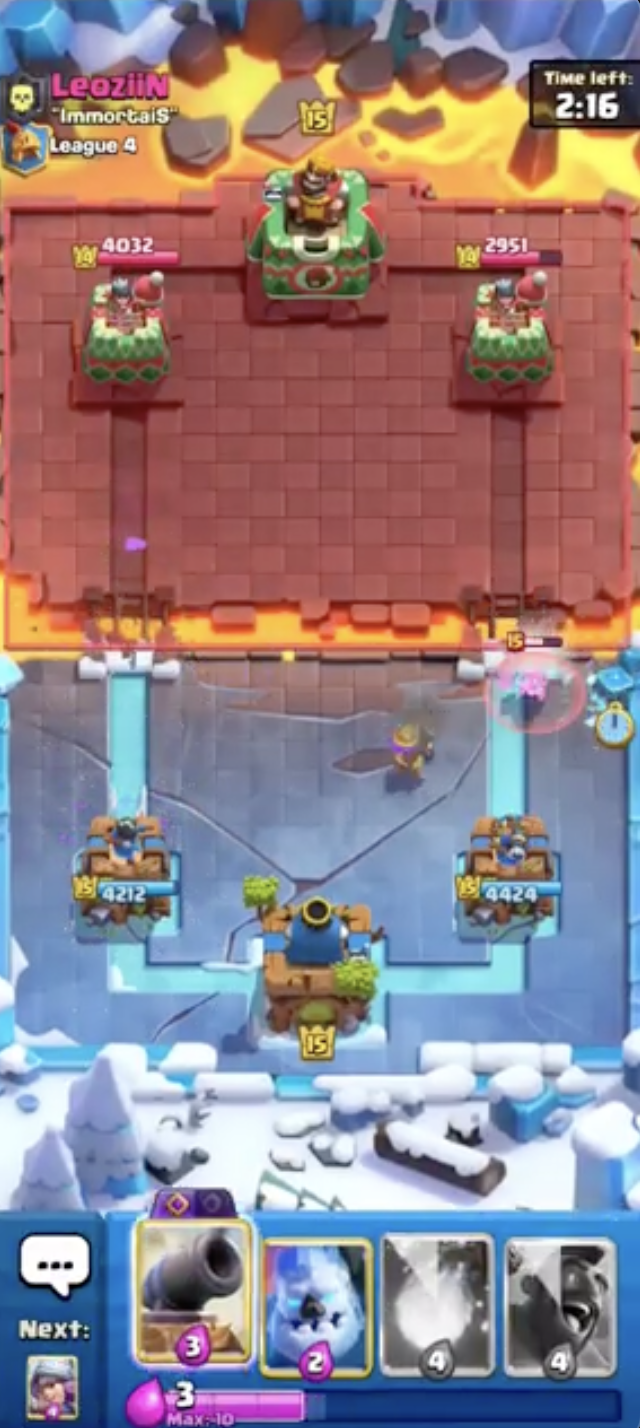musketeer: (379, 710, 441, 788)
